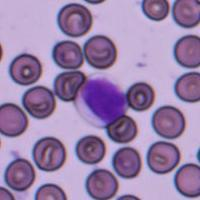L: (73, 72, 128, 128)
